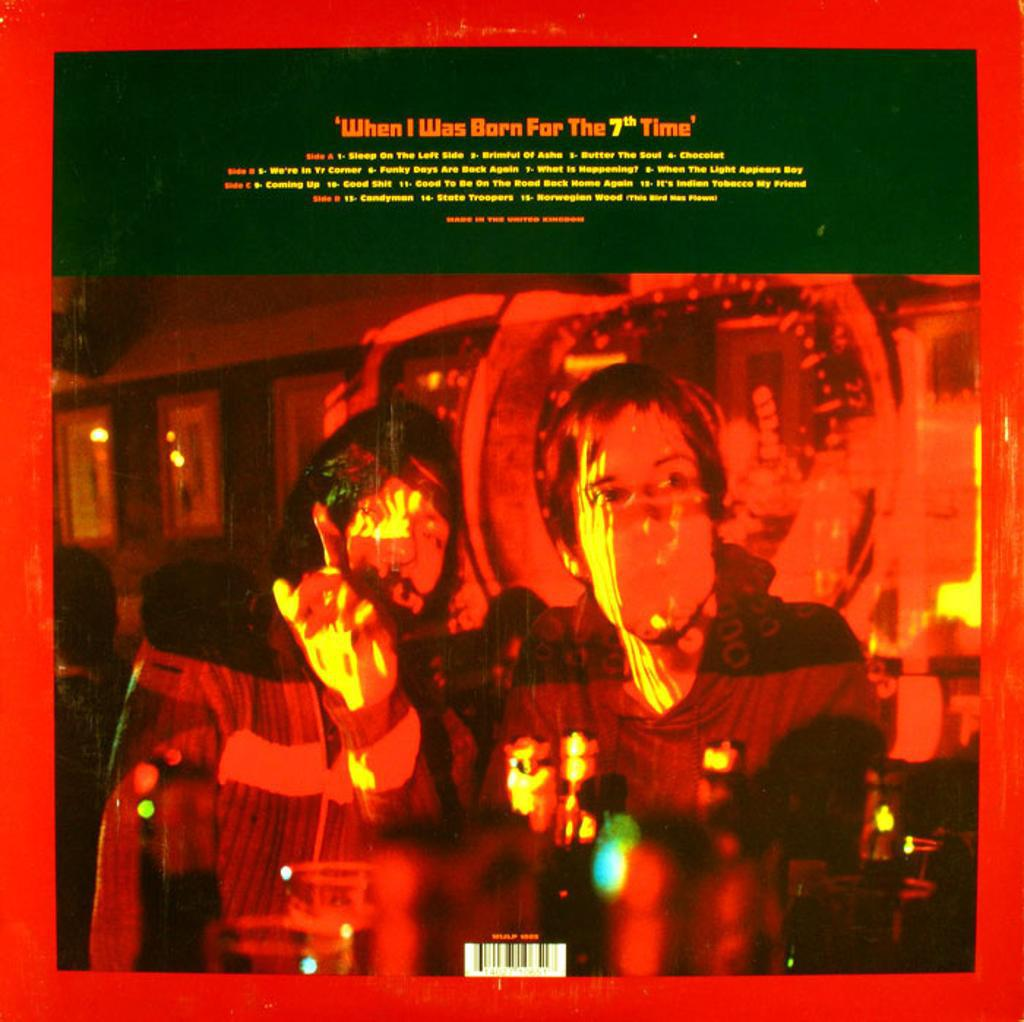face: (575, 409, 723, 645)
